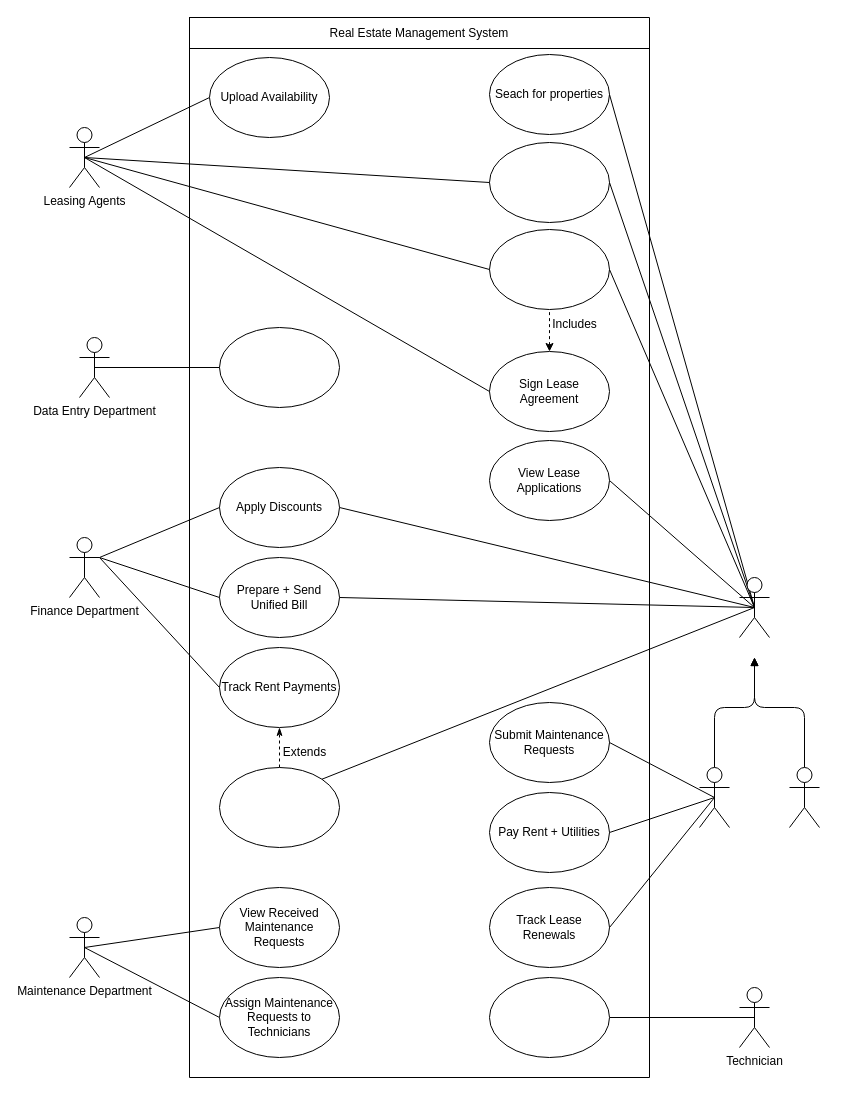
The diagram is 845 pixels wide and 1095 high, and some of its shapes have lost their labels. The shapes that lost their labels are listed below. From the top down, each one's centre as x and y in pixels, then its label:
(x=549, y=182): Book Apppointments
(x=549, y=269): Apply/Renew Lease
(x=279, y=367): Maintain Store Information
(x=754, y=607): Tenant
(x=279, y=807): Notify Late Tenants
(x=714, y=797): Current
(x=804, y=797): Potential
(x=549, y=1017): View Assigned Maintenance Requests
